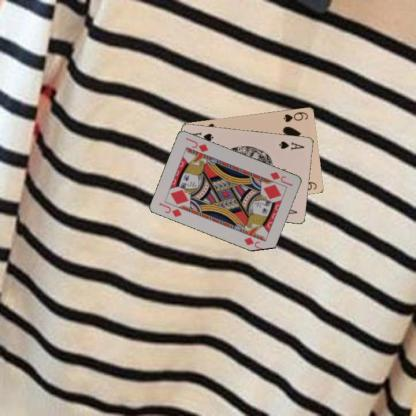6s: (281, 109, 309, 123)
As: (276, 138, 306, 150)
Jd: (268, 169, 294, 187), (157, 200, 183, 218)
